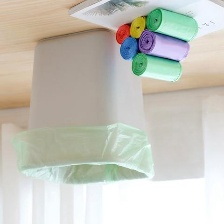plastic_bag: (144, 6, 203, 40), (138, 27, 192, 64), (128, 54, 183, 83), (116, 36, 143, 63), (128, 14, 147, 40), (111, 25, 134, 44)
